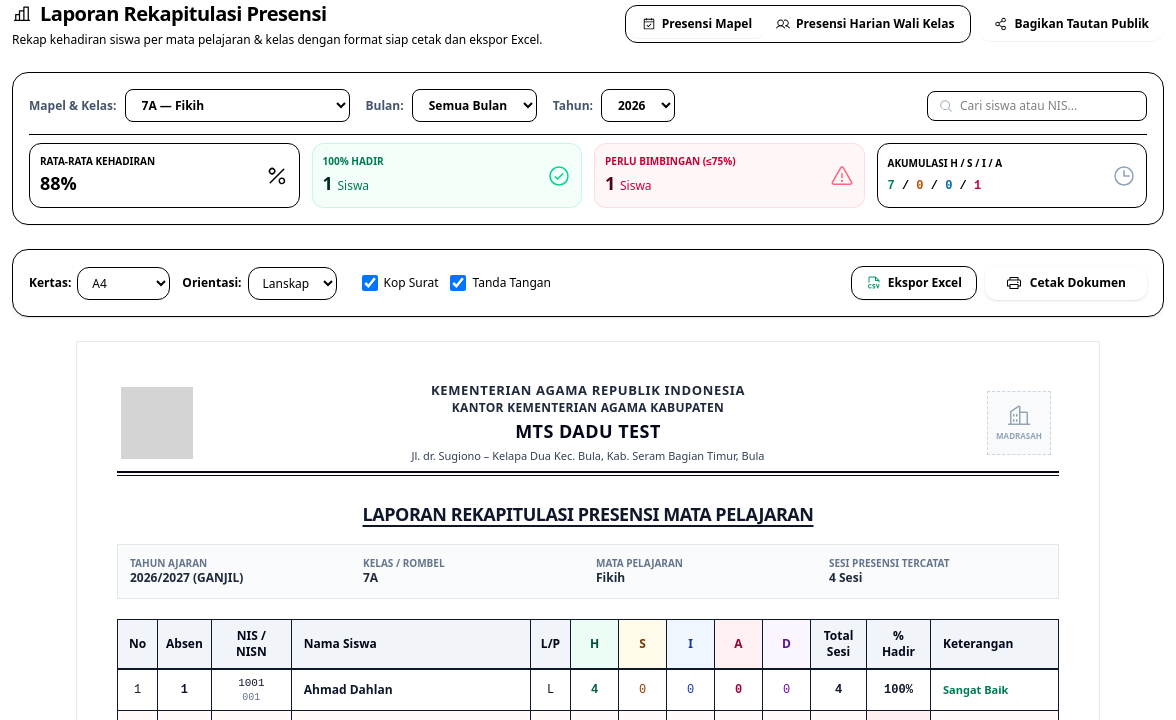
Test: AttendanceReportPage Denominator Semantics & Correctness › 8. Homeroom monthly calculations remain based on distinct recorded daily-attendance dates
The image size is (1176, 720).
Expected: the text "Ahmad Dahlan" is shown, x1=291 y1=670 x2=530 y2=711
Click the button "Presensi Harian Wali Kelas": (865, 24) x1=764 y1=10 x2=966 y2=38
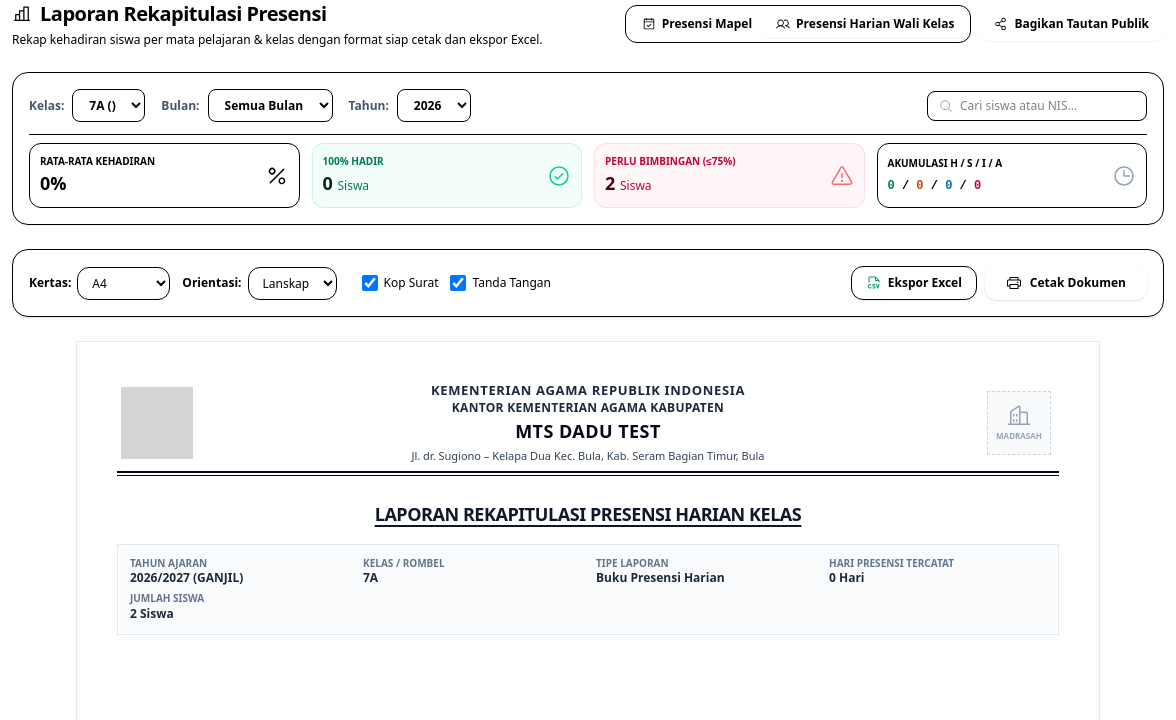
Select "Oktober" in the dropdown next to "Bulan:": (270, 106) x1=208 y1=89 x2=332 y2=122
(page scrolled)
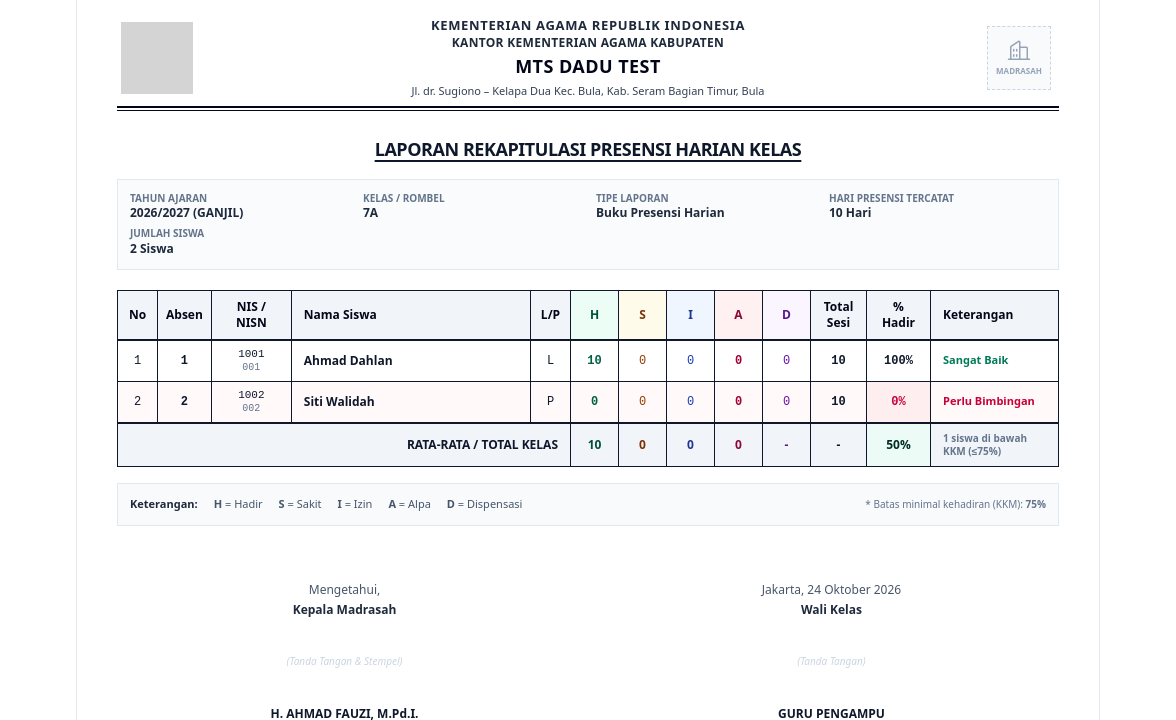
Now the text "Ahmad Dahlan" shows "10", box x1=587 y1=354 x2=602 y2=368
Now the text "Ahmad Dahlan" shows "100%", box x1=118 y1=340 x2=1058 y2=381
Now the text "Ahmad Dahlan" shows "Sangat Baik", box x1=943 y1=352 x2=1008 y2=367
